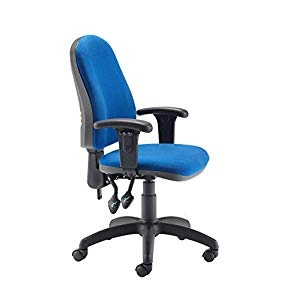chair: (68, 34, 219, 277)
